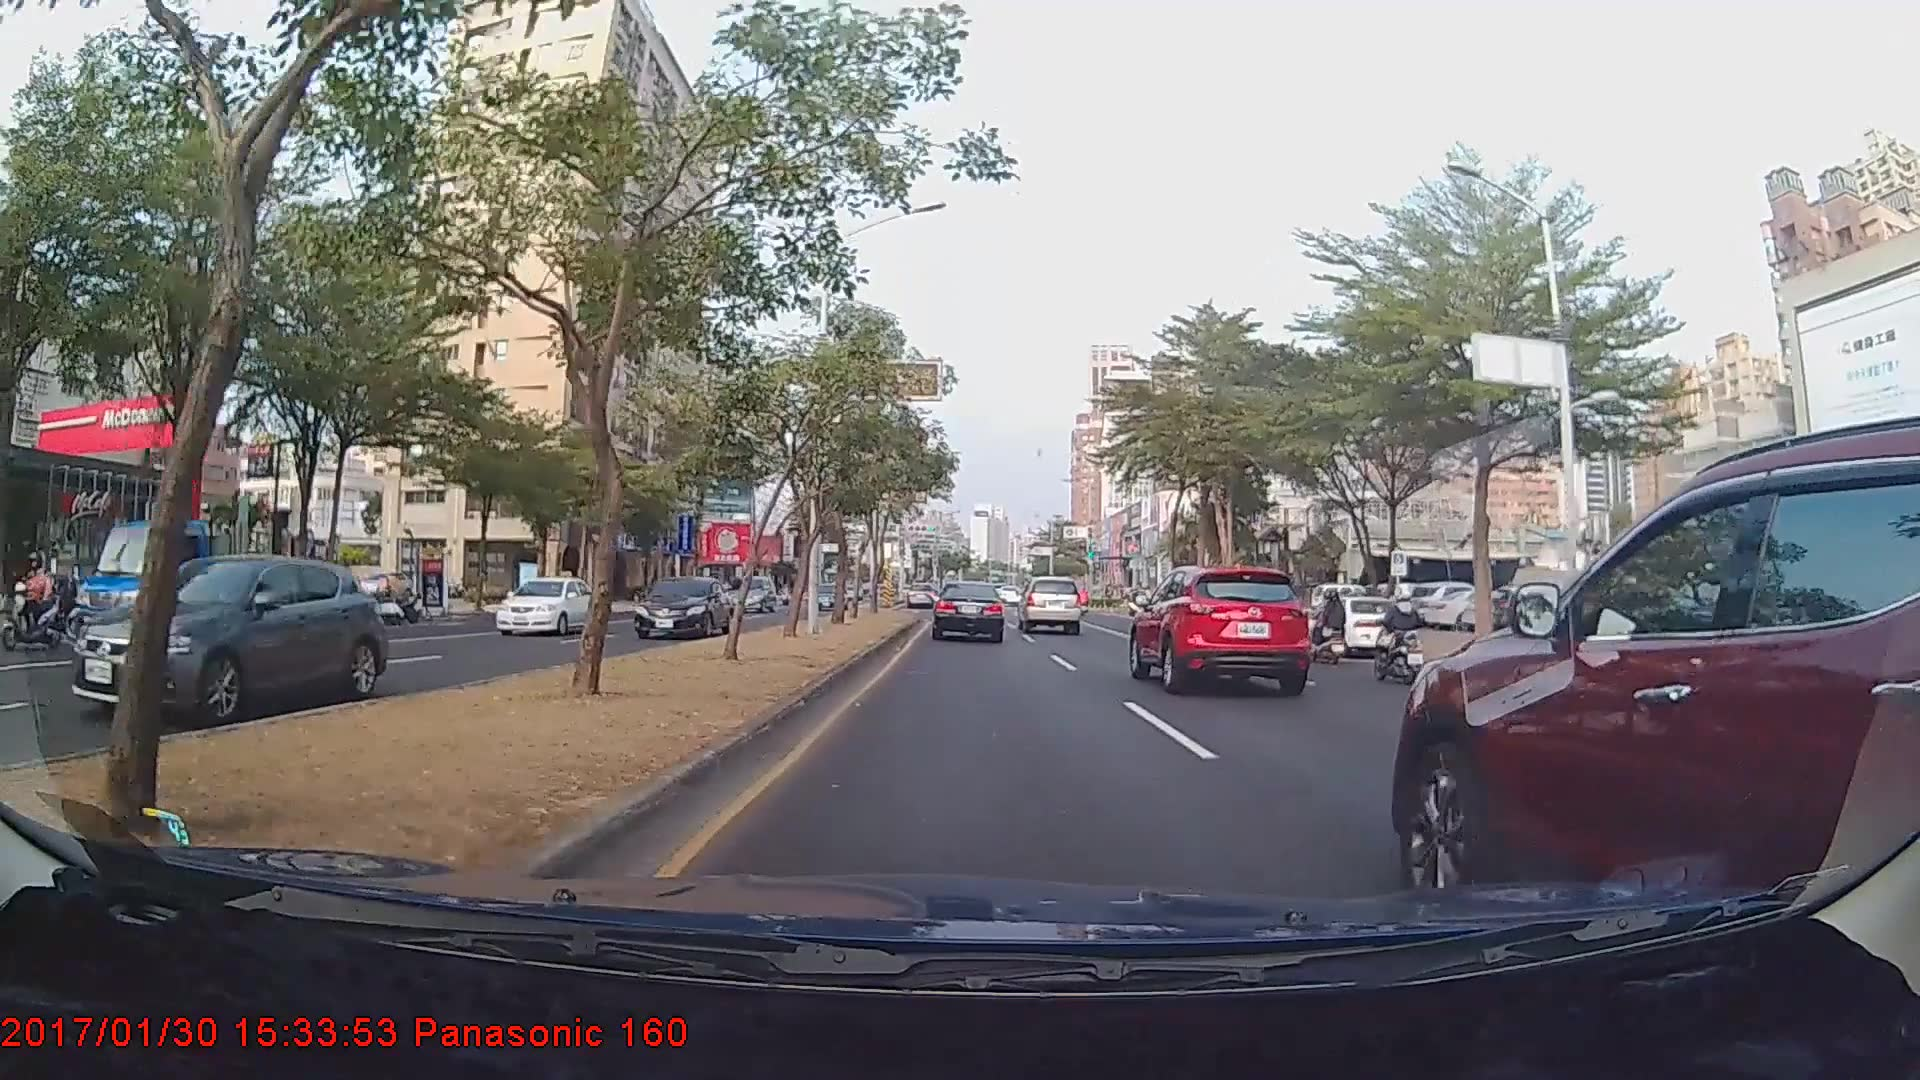rider: (1, 553, 77, 654), (1365, 579, 1431, 679), (1300, 580, 1353, 666)
vehicle: (1392, 420, 1920, 965), (71, 553, 389, 726), (72, 518, 298, 670), (1129, 560, 1310, 692), (1303, 594, 1414, 656), (631, 578, 735, 640), (493, 573, 600, 632), (932, 580, 1005, 642), (1017, 576, 1082, 634), (904, 580, 939, 609)
